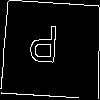P: (26, 24, 60, 72)
